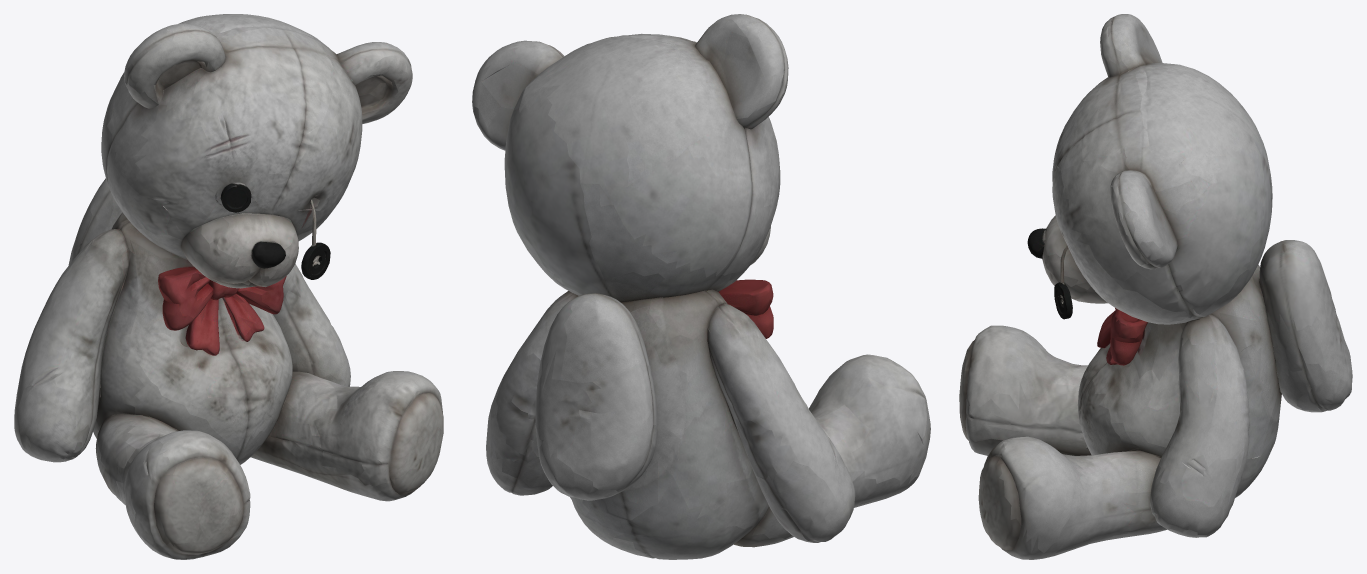
File: orsacchiotto_grande.glb
3 views of the same model, side by side, from view 1: azimuth 30°, elevation 25°; view 2: azimuth 150°, elevation 25°; view 3: azimuth 270°, elevation 25° (orthographic). The views are drawn at different scales.
Parts seen in each view (by area): view 1: Mesh_0; view 2: Mesh_0; view 3: Mesh_0.
Boxes of the visible parts, box(x1,y1,x2,y2) form: Mesh_0: box(14, 14, 443, 559); Mesh_0: box(472, 14, 930, 559); Mesh_0: box(959, 14, 1352, 559).
Bounding box in the file's own units: 1.55 × 1.9 × 1.48.
Materials: 1 (1 with a texture image).
